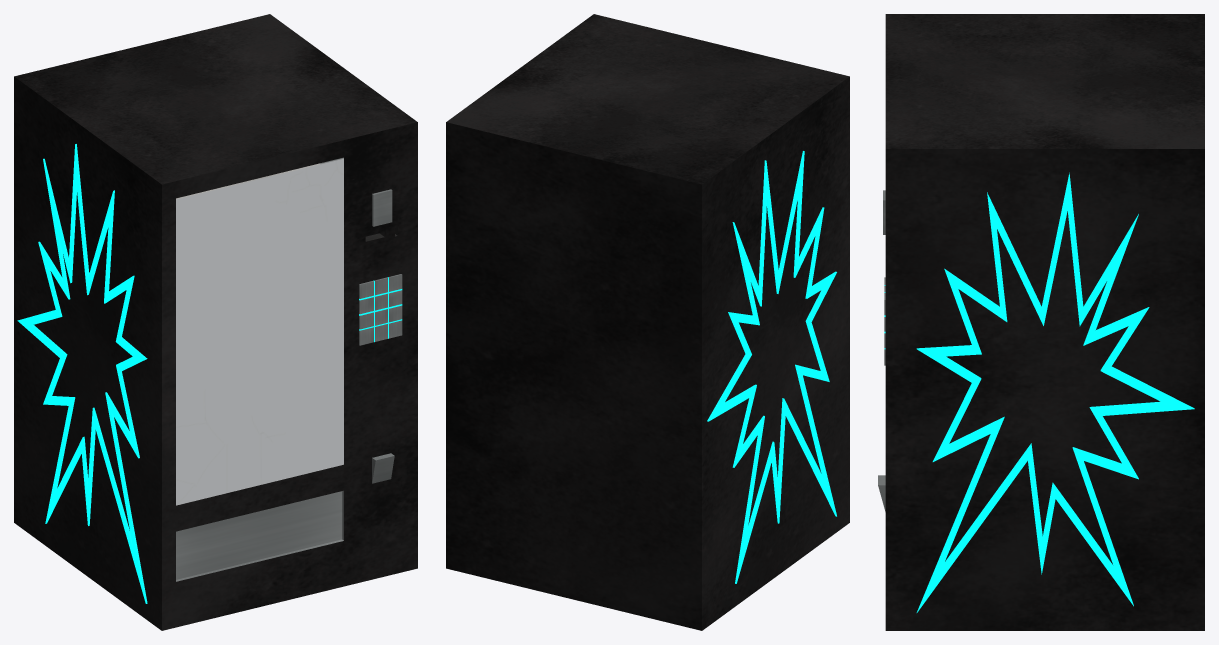
Rendered from Vending_Machine.fbx.
3 renders of one model, left to right at view 1: azimuth 30°, elevation 25°; view 2: azimuth 150°, elevation 25°; view 3: azimuth 270°, elevation 25°, orthographic. The views are drawn at different scales.
Parts seen in each view (by area): view 1: Vending Machine; view 2: Vending Machine; view 3: Vending Machine.
Part boxes in pixels (box(x1,y1,x2,y2)): Vending Machine: box(14, 14, 417, 630); Vending Machine: box(446, 14, 849, 630); Vending Machine: box(878, 14, 1204, 630).
Bounding box in the file's own units: 166 × 272 × 167.
